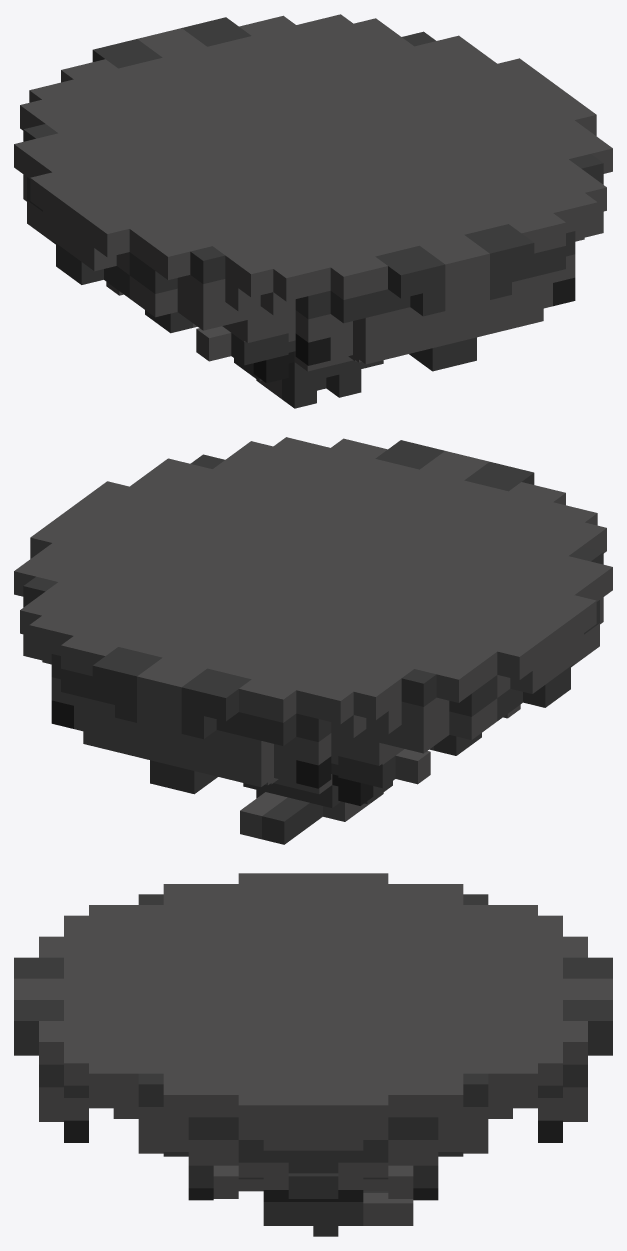
Rendered from stone top down only top thingy.obj.
The picture shows the model from 3 angles, top to bottom: view 1: azimuth 30°, elevation 25°; view 2: azimuth 150°, elevation 25°; view 3: azimuth 270°, elevation 25°; orthographic projection. The views are drawn at different scales.
Size of the model in its own units: 2.2 by 1 by 2.4.
Materials: 1 (1 with a texture image).
